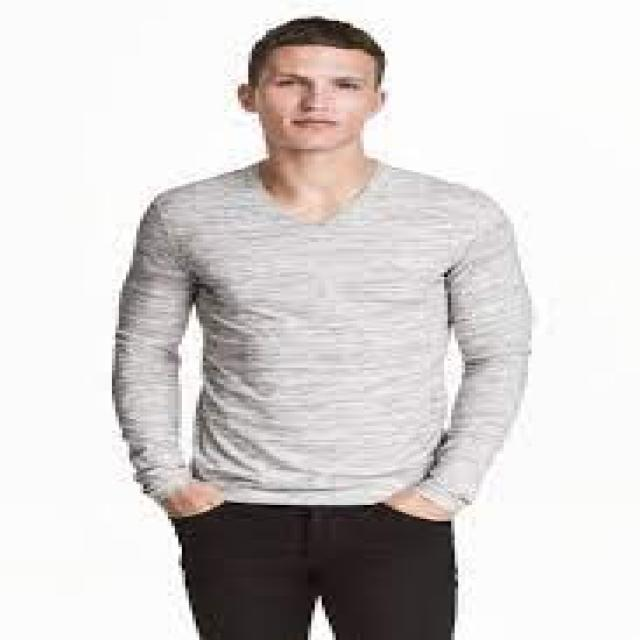plain: (111, 155, 541, 507)
